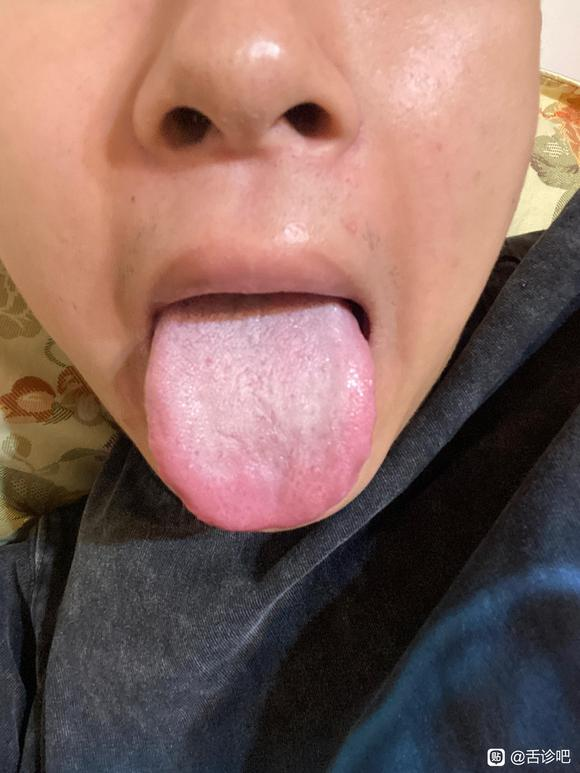baitaishe: (145, 294, 377, 531)
chihenshe: (346, 416, 378, 494)
hongshe: (145, 294, 377, 531)
